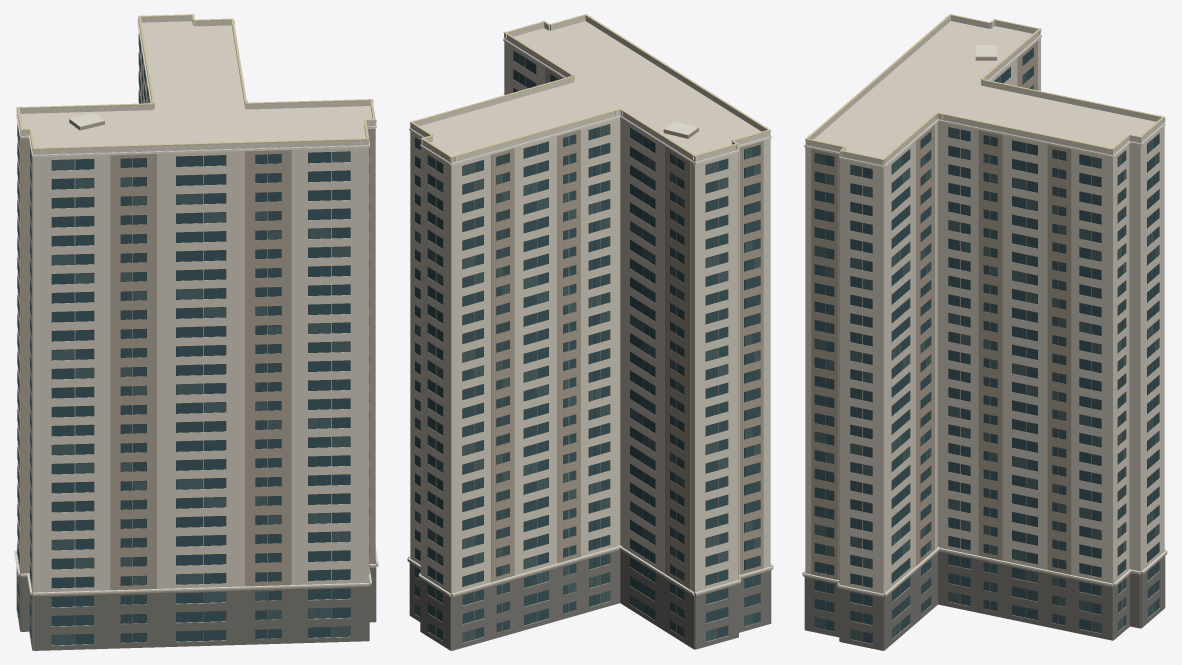
The model's file is bespoke-raemian-prestige-123.glb.
The picture shows the model from 3 angles, left to right: view 1: azimuth 30°, elevation 25°; view 2: azimuth 150°, elevation 25°; view 3: azimuth 270°, elevation 25°; orthographic projection. The views are drawn at different scales.
Visible parts, largest first — view 1: Prestige_warm_ivory_rendered_wall009, Prestige_recessed_blue_green_window009, Prestige_wide_taupe_pilasters009, Prestige_dark_bronze_thin_window_frame009, Prestige_dark_brown_grey_stone_base009, Prestige_muted_green_window_pair009, Prestige_pale_limestone_band009, Prestige_cream_gold_crown_coping009; view 2: Prestige_warm_ivory_rendered_wall009, Prestige_recessed_blue_green_window009, Prestige_wide_taupe_pilasters009, Prestige_dark_bronze_thin_window_frame009, Prestige_dark_brown_grey_stone_base009, Prestige_muted_green_window_pair009, Prestige_pale_limestone_band009, Prestige_cream_gold_crown_coping009; view 3: Prestige_warm_ivory_rendered_wall009, Prestige_recessed_blue_green_window009, Prestige_wide_taupe_pilasters009, Prestige_dark_bronze_thin_window_frame009, Prestige_dark_brown_grey_stone_base009, Prestige_muted_green_window_pair009, Prestige_pale_limestone_band009, Prestige_cream_gold_crown_coping009.
Boxes of the visible parts, bbox=[...] form: Prestige_warm_ivory_rendered_wall009: bbox=[17, 16, 375, 649]; Prestige_recessed_blue_green_window009: bbox=[17, 40, 369, 644]; Prestige_wide_taupe_pilasters009: bbox=[18, 50, 378, 643]; Prestige_dark_bronze_thin_window_frame009: bbox=[17, 34, 350, 645]; Prestige_dark_brown_grey_stone_base009: bbox=[16, 552, 376, 650]; Prestige_muted_green_window_pair009: bbox=[17, 34, 369, 645]; Prestige_pale_limestone_band009: bbox=[14, 19, 378, 594]; Prestige_cream_gold_crown_coping009: bbox=[16, 14, 376, 149]; Prestige_warm_ivory_rendered_wall009: bbox=[410, 16, 770, 650]; Prestige_recessed_blue_green_window009: bbox=[415, 59, 760, 640]; Prestige_wide_taupe_pilasters009: bbox=[407, 67, 773, 637]; Prestige_dark_bronze_thin_window_frame009: bbox=[415, 50, 760, 642]; Prestige_dark_brown_grey_stone_base009: bbox=[409, 550, 771, 650]; Prestige_muted_green_window_pair009: bbox=[415, 51, 760, 642]; Prestige_pale_limestone_band009: bbox=[407, 34, 773, 595]; Prestige_cream_gold_crown_coping009: bbox=[410, 14, 770, 158]; Prestige_warm_ivory_rendered_wall009: bbox=[805, 16, 1164, 644]; Prestige_recessed_blue_green_window009: bbox=[815, 48, 1159, 643]; Prestige_wide_taupe_pilasters009: bbox=[802, 41, 1167, 631]; Prestige_dark_bronze_thin_window_frame009: bbox=[814, 47, 1159, 643]; Prestige_dark_brown_grey_stone_base009: bbox=[804, 551, 1165, 650]; Prestige_muted_green_window_pair009: bbox=[815, 72, 1159, 641]; Prestige_pale_limestone_band009: bbox=[802, 30, 1167, 595]; Prestige_cream_gold_crown_coping009: bbox=[805, 14, 1165, 160].
Size of the model in its own units: 47.66 by 73.7 by 49.66.
